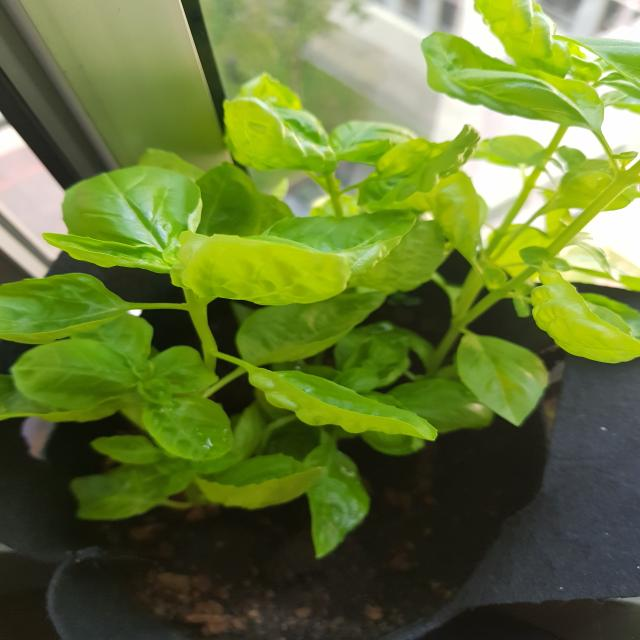Sweet Basil: (17, 16, 627, 540)
